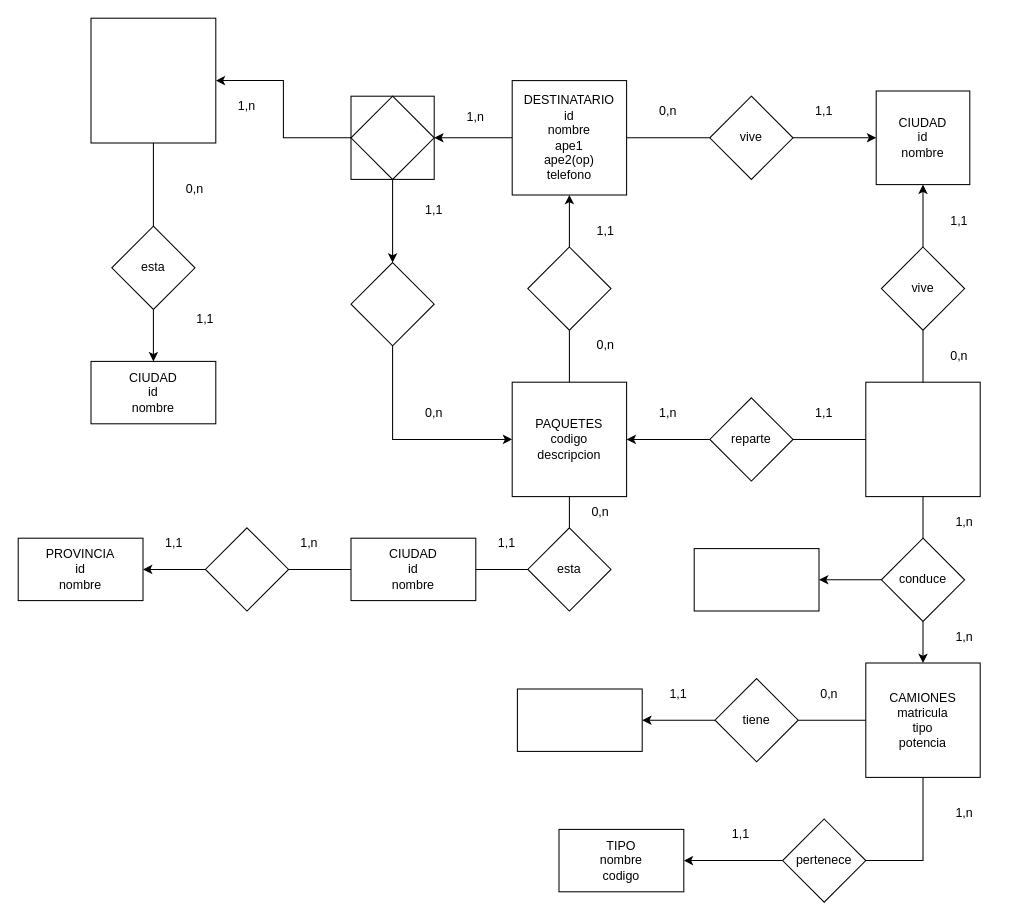
Some shapes in this 1014 by 920 pixel diagram are drawn without their labels. Each missing label, with the centre of its shape:
CAMIONEROS dni nombre ape1 ape2(op) telefono salario: the point at 922,439
entrega: the point at 392,304
es de: the point at 569,288
FECHA: the point at 756,579
llega: the point at 246,569
MODELO: the point at 579,719
reside: the point at 392,137
VIVIENDA codigo calle portal bloque(op) piso(op) puerta(op) cp: the point at 153,80
